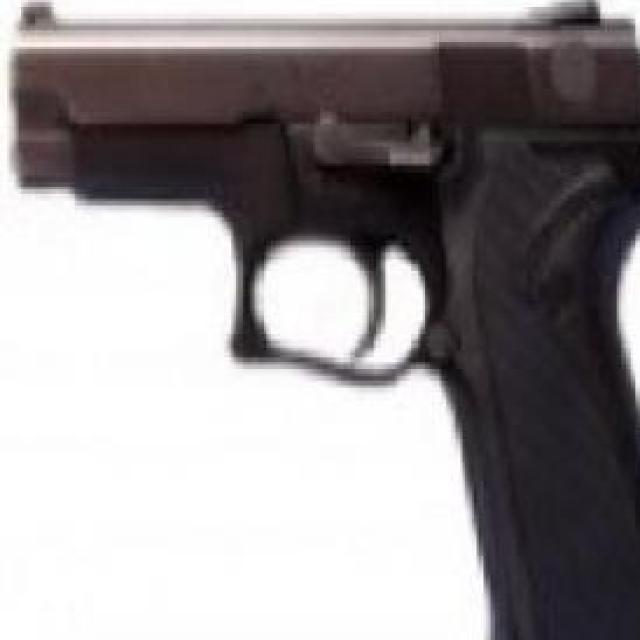pistol: (18, 2, 640, 639)
